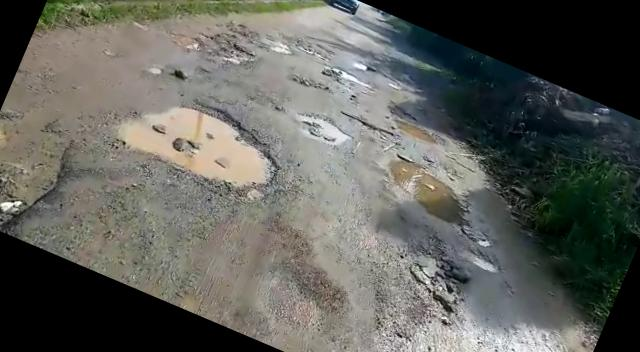pothole: (114, 76, 306, 216), (0, 104, 80, 246), (374, 151, 485, 232), (165, 14, 257, 80), (292, 105, 356, 151), (338, 110, 402, 147), (318, 61, 378, 96), (388, 115, 443, 150)
